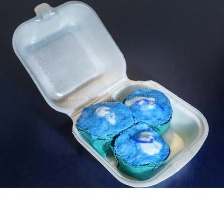foam_box: (7, 0, 212, 188)
